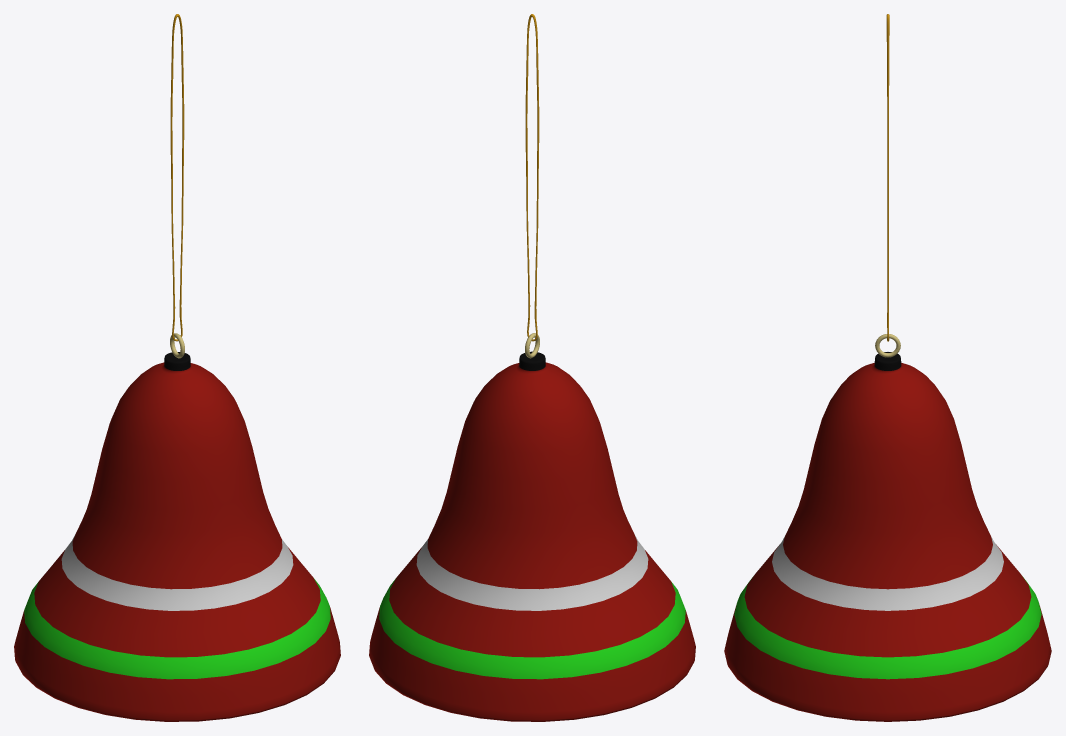
The model's file is christma_bell_OBJ.obj.
3 views of the same model, side by side, from view 1: azimuth 30°, elevation 25°; view 2: azimuth 150°, elevation 25°; view 3: azimuth 270°, elevation 25° (orthographic).
Visible parts, largest first — view 1: ChristmasBell; view 2: ChristmasBell; view 3: ChristmasBell.
Part boxes in pixels (x1,y1,x2,y2): ChristmasBell: [14, 14, 340, 721]; ChristmasBell: [369, 14, 695, 721]; ChristmasBell: [724, 14, 1051, 721].
Size of the model in its own units: 0.1003 by 0.22 by 0.1003.
